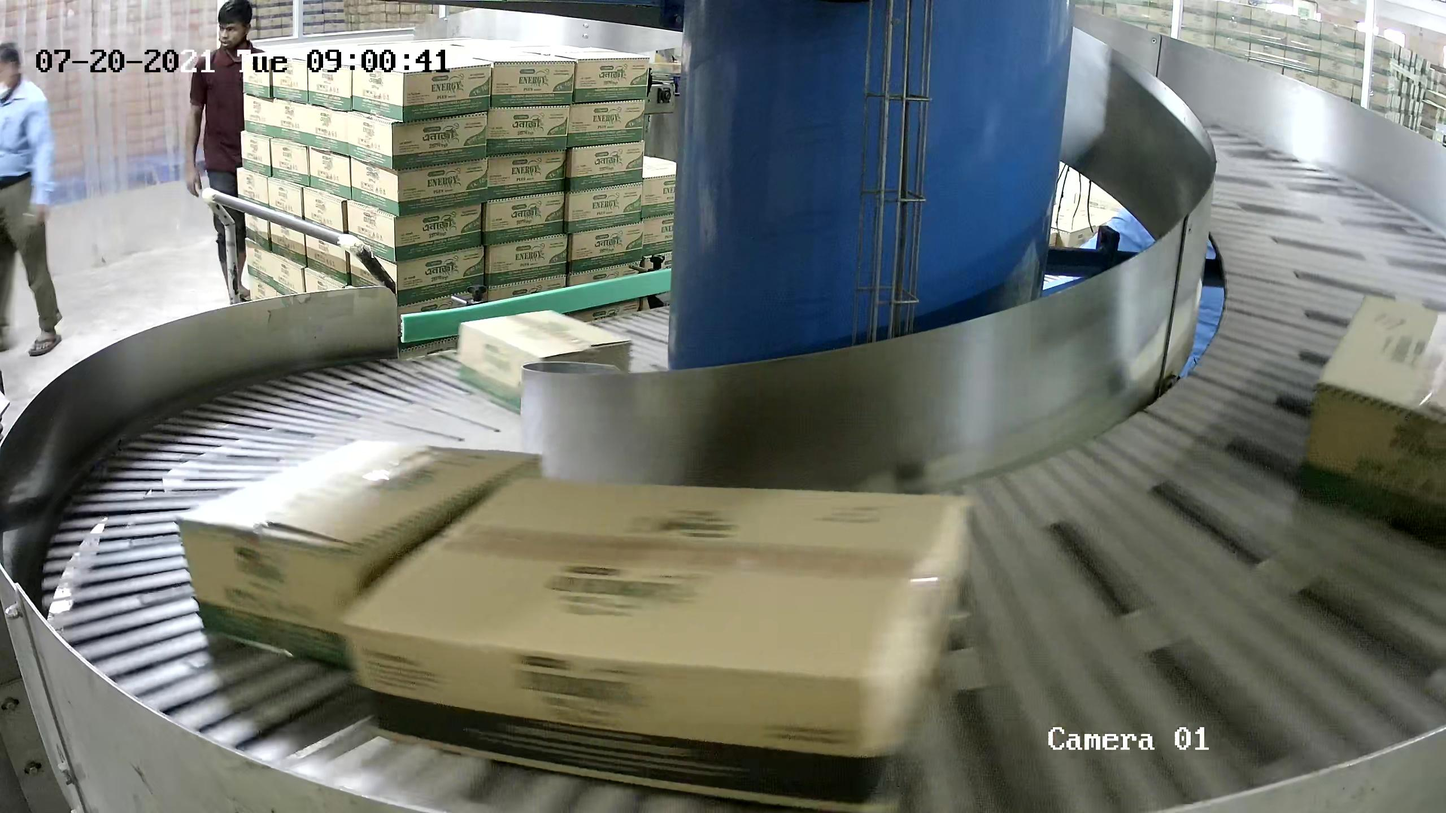Box: (338, 464, 974, 813), (174, 436, 543, 673), (1301, 288, 1446, 541), (456, 308, 633, 416)
